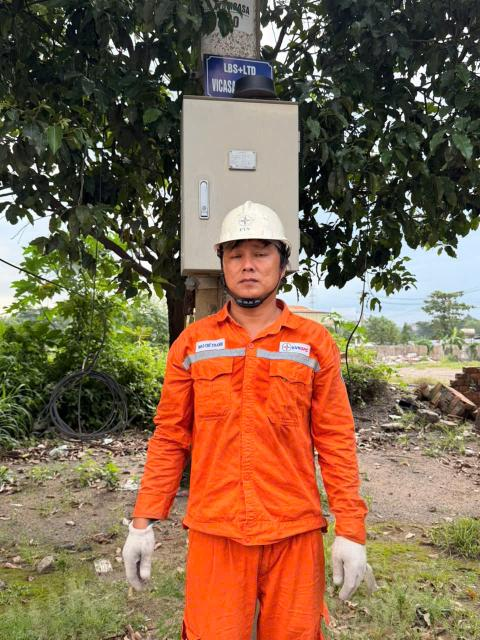gloves: (110, 500, 168, 600), (311, 527, 374, 603)
helmet: (214, 198, 297, 254)
